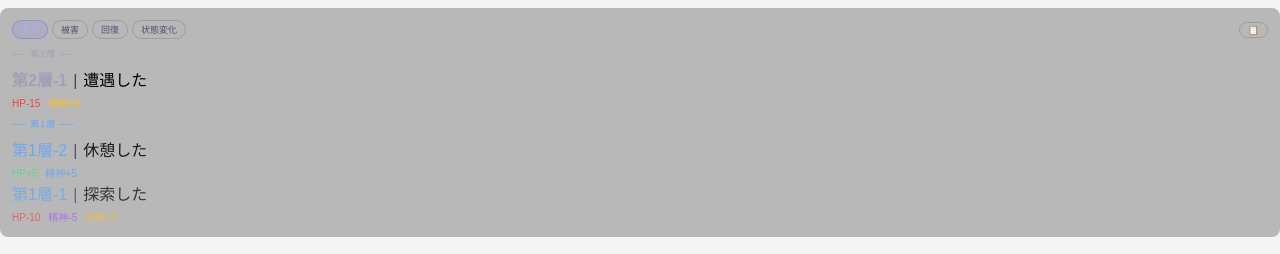
Test: LogPanel › フィルタリング › 被害フィルターをクリックすると被害ログのみ表示される
Click the button "被害" at (70, 30), box [52,20,88,39]
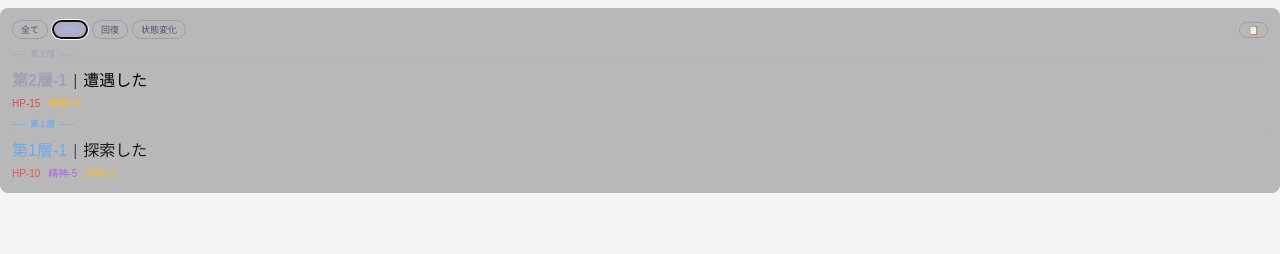
expect the text "探索した" is shown: met, box [83,142,147,159]
expect the text "休憩した" is gone: met
